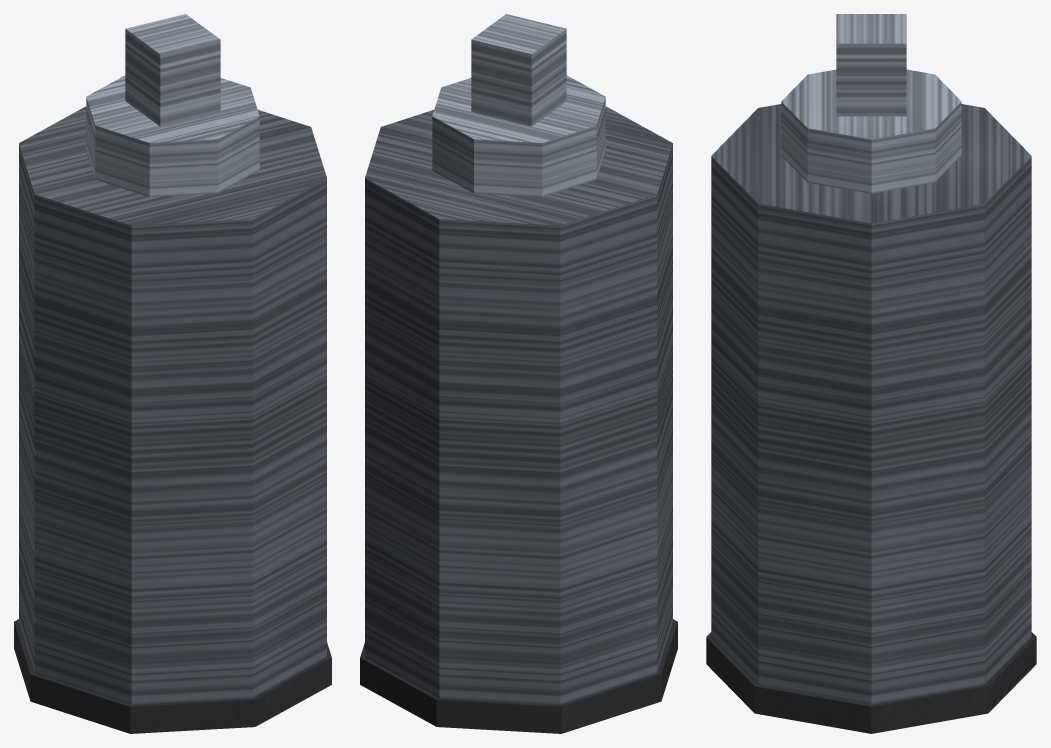
Rendered from gas_cylinder.fbx.
3 views of the same model, side by side, from view 1: azimuth 30°, elevation 25°; view 2: azimuth 150°, elevation 25°; view 3: azimuth 270°, elevation 25° (orthographic).
Visible parts, largest first — view 1: gas_cylinder; view 2: gas_cylinder; view 3: gas_cylinder.
Boxes of the visible parts, x1,y1,x2,y2 form: gas_cylinder: (14, 14, 331, 733); gas_cylinder: (360, 14, 677, 733); gas_cylinder: (706, 14, 1036, 733).
Size of the model in its own units: 33 by 70 by 33.
